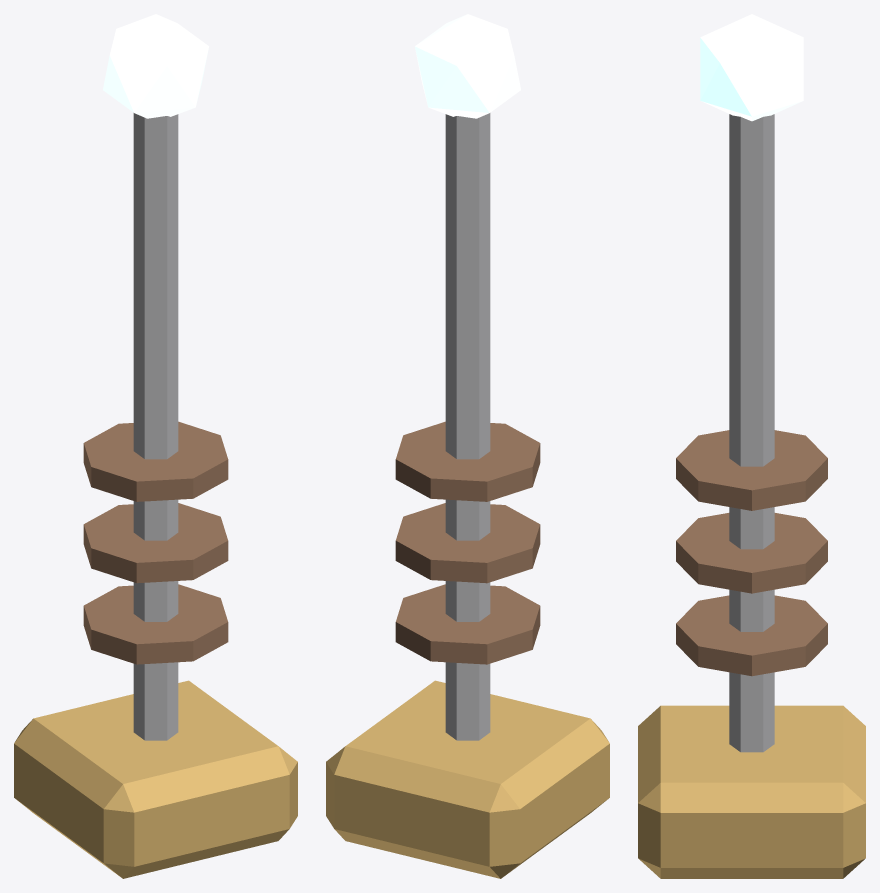
Rendered from CO_Top_Antenna.fbx.
3 renders of one model, left to right at view 1: azimuth 30°, elevation 25°; view 2: azimuth 150°, elevation 25°; view 3: azimuth 270°, elevation 25°, orthographic.
Visible parts, largest first — view 1: CO_Top_Antenna; view 2: CO_Top_Antenna; view 3: CO_Top_Antenna.
Boxes of the visible parts, x1=… form: CO_Top_Antenna: x1=14, y1=14, x2=297, y2=878; CO_Top_Antenna: x1=326, y1=14, x2=609, y2=878; CO_Top_Antenna: x1=638, y1=14, x2=865, y2=878.
Size of the model in its own units: 0.3 by 1.2 by 0.3.
